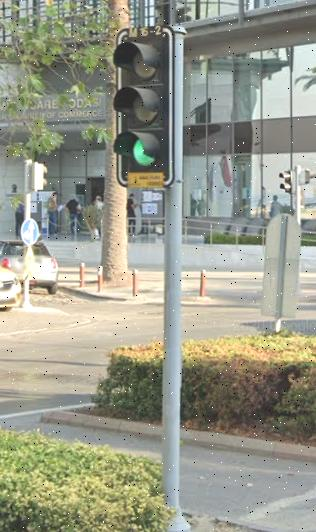greenlight: (117, 27, 175, 180)
